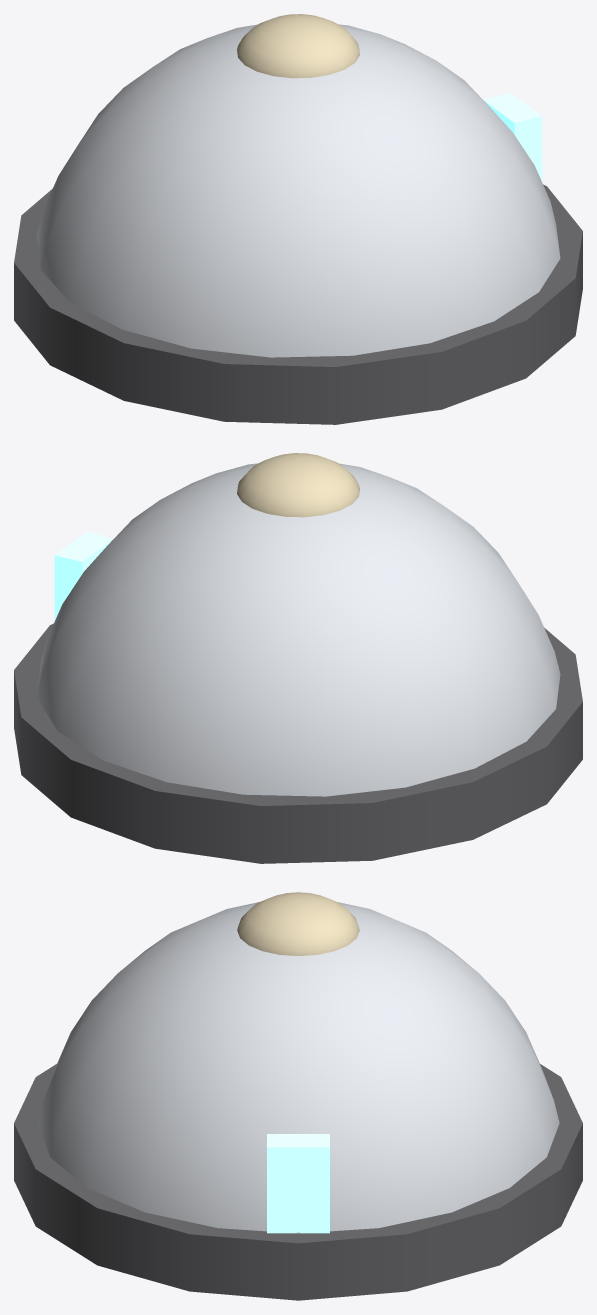
The model's file is pod_2038.glb.
The picture shows the model from 3 angles, top to bottom: view 1: azimuth 30°, elevation 25°; view 2: azimuth 150°, elevation 25°; view 3: azimuth 270°, elevation 25°; orthographic projection.
Visible parts, largest first — view 1: Dome, Base, Cap, Door; view 2: Dome, Base, Cap, Door; view 3: Dome, Base, Door, Cap.
Part boxes in pixels (x1,y1,x2,y2): Dome: [36, 24, 560, 357]; Base: [14, 184, 582, 424]; Cap: [237, 14, 359, 78]; Door: [483, 93, 542, 181]; Dome: [36, 463, 560, 796]; Base: [14, 623, 582, 863]; Cap: [237, 453, 359, 517]; Door: [54, 532, 113, 620]; Dome: [37, 902, 559, 1233]; Base: [14, 1064, 582, 1300]; Door: [267, 1134, 329, 1233]; Cap: [237, 892, 359, 955].
Bounding box in the file's own units: 0.72 × 0.39 × 0.72.
